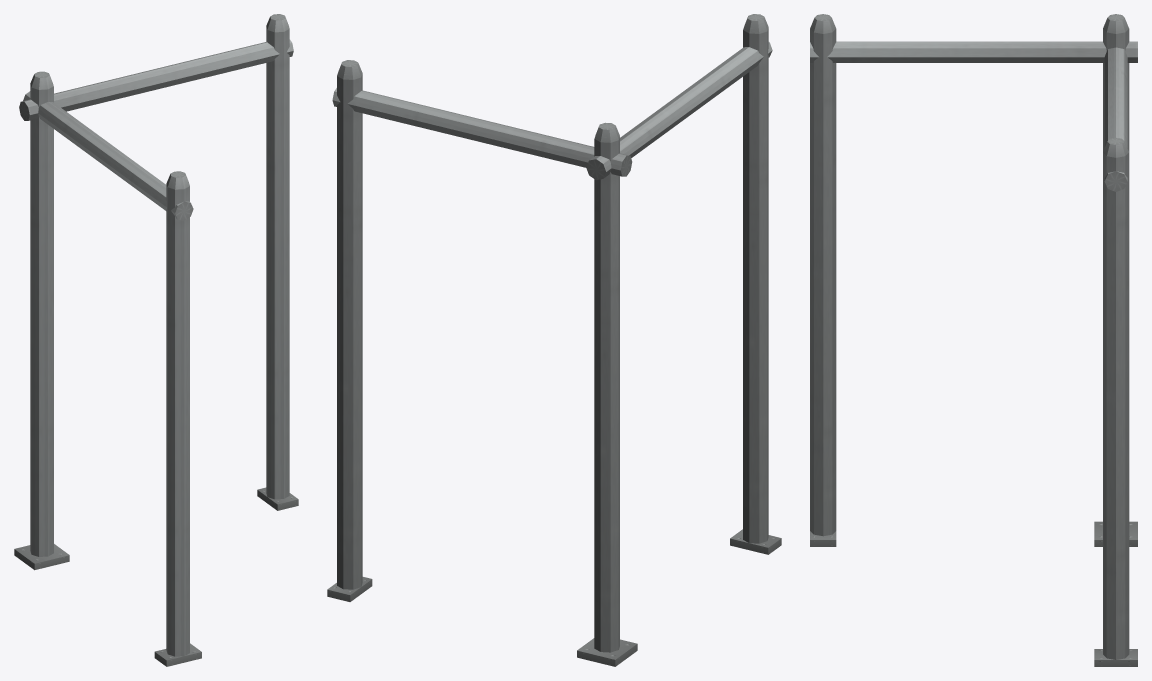
The model's file is pool_guardrail_corner.glb.
3 renders of one model, left to right at view 1: azimuth 30°, elevation 25°; view 2: azimuth 150°, elevation 25°; view 3: azimuth 270°, elevation 25°, orthographic. The views are drawn at different scales.
Visible parts, largest first — view 1: core_pool_guardrail_corner; view 2: core_pool_guardrail_corner; view 3: core_pool_guardrail_corner.
Part boxes in pixels (x1=…): core_pool_guardrail_corner: x1=14, y1=14, x2=298, y2=666; core_pool_guardrail_corner: x1=327, y1=14, x2=781, y2=666; core_pool_guardrail_corner: x1=810, y1=14, x2=1137, y2=666.
Size of the model in its own units: 0.6 by 1.05 by 0.6.
Materials: 1 (1 with a texture image).
